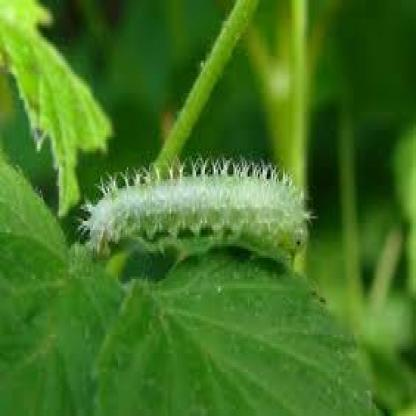sawfly: (78, 156, 317, 276)
